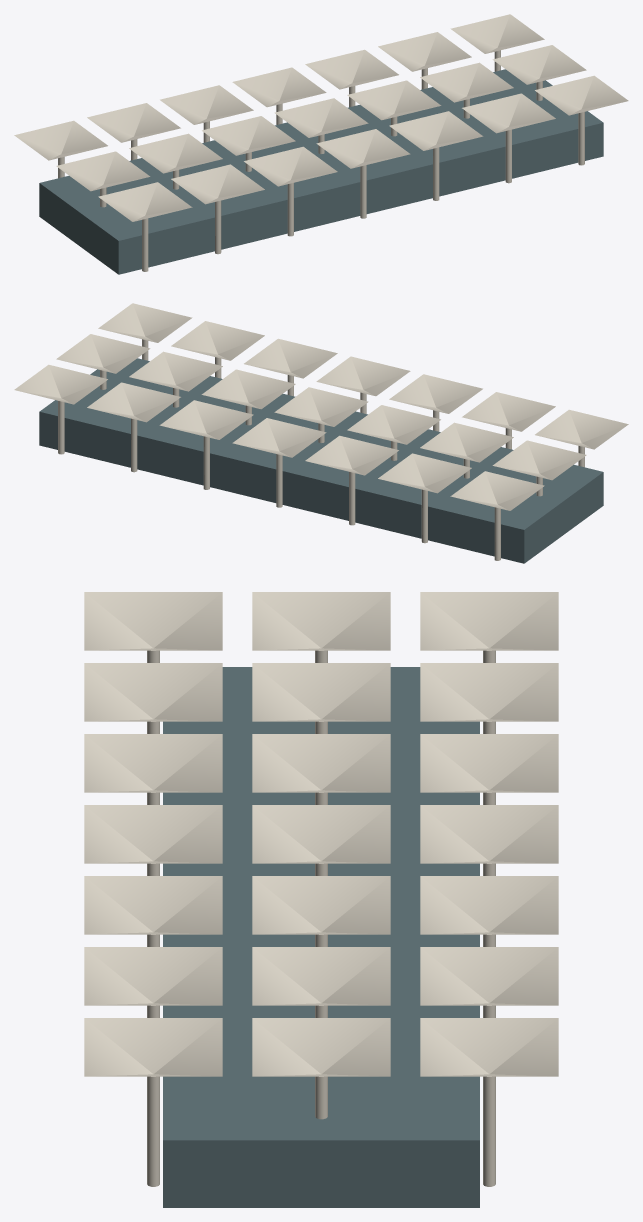
The model's file is kamalapur.glb.
3 renders of one model, top to bottom at view 1: azimuth 30°, elevation 25°; view 2: azimuth 150°, elevation 25°; view 3: azimuth 270°, elevation 25°, orthographic. The views are drawn at different scales.
Parts seen in each view (by area): view 1: kamalapur; view 2: kamalapur; view 3: kamalapur.
Part boxes in pixels (x1=…): kamalapur: x1=14, y1=14, x2=628, y2=274; kamalapur: x1=14, y1=303, x2=628, y2=563; kamalapur: x1=84, y1=592, x2=558, y2=1207.
Size of the model in its own units: 123 by 16.2 by 50.85.
